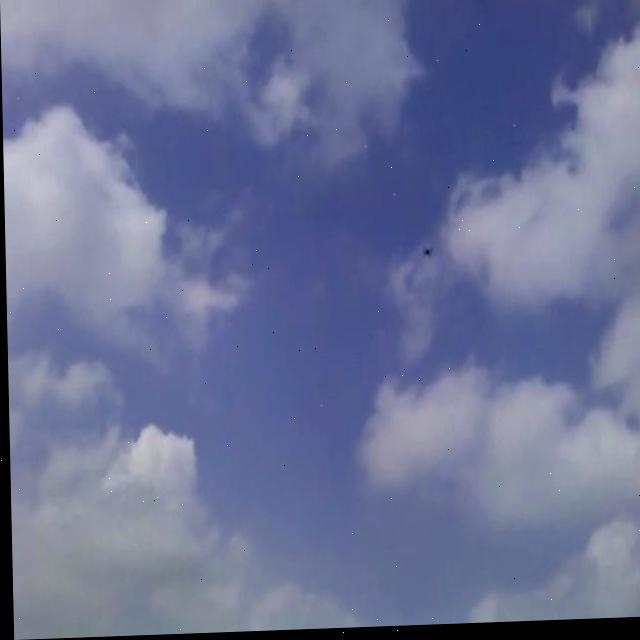drone: (419, 242, 436, 263)
